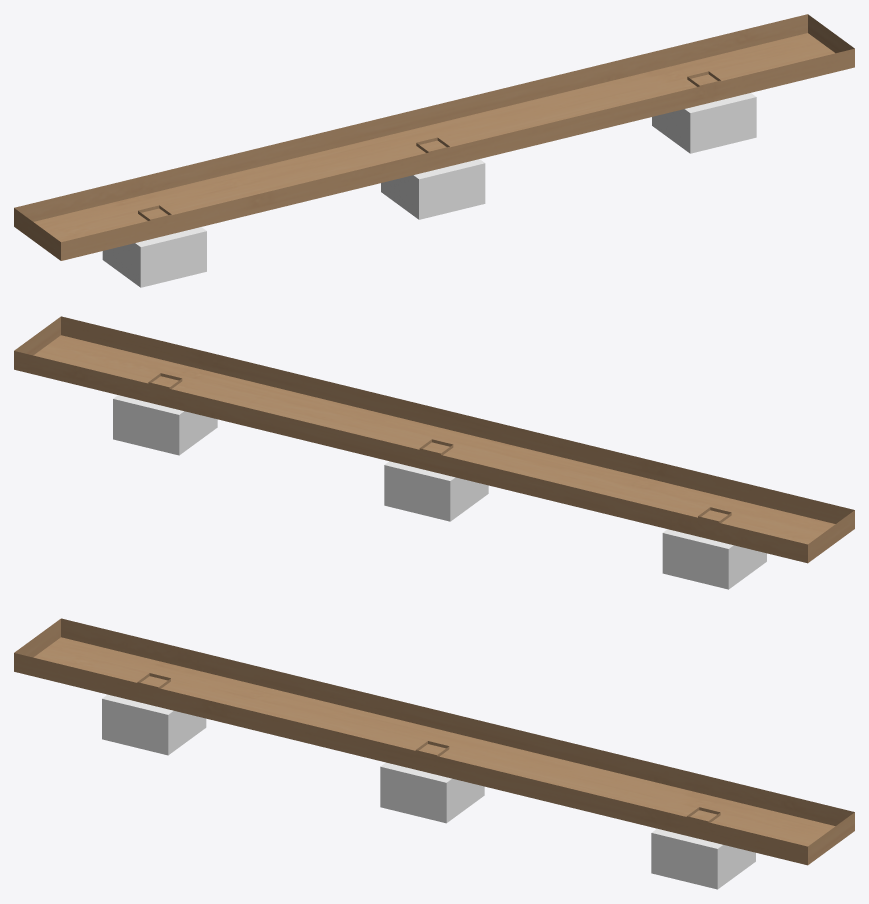
The model's file is M_cantingdeng03.FBX.
The picture shows the model from 3 angles, top to bottom: view 1: azimuth 30°, elevation 25°; view 2: azimuth 150°, elevation 25°; view 3: azimuth 330°, elevation 25°; orthographic projection.
Visible parts, largest first — view 1: M_cantingdeng03_01, M_cantingdeng03_02; view 2: M_cantingdeng03_01, M_cantingdeng03_02; view 3: M_cantingdeng03_01, M_cantingdeng03_02.
Boxes of the visible parts, x1=… form: M_cantingdeng03_01: x1=14, y1=14, x2=854, y2=260; M_cantingdeng03_02: x1=102, y1=93, x2=756, y2=287; M_cantingdeng03_01: x1=14, y1=316, x2=854, y2=563; M_cantingdeng03_02: x1=113, y1=395, x2=766, y2=589; M_cantingdeng03_01: x1=14, y1=618, x2=854, y2=865; M_cantingdeng03_02: x1=102, y1=694, x2=755, y2=889.
Bounding box in the file's own units: 3.43 × 0.2854 × 0.353.
